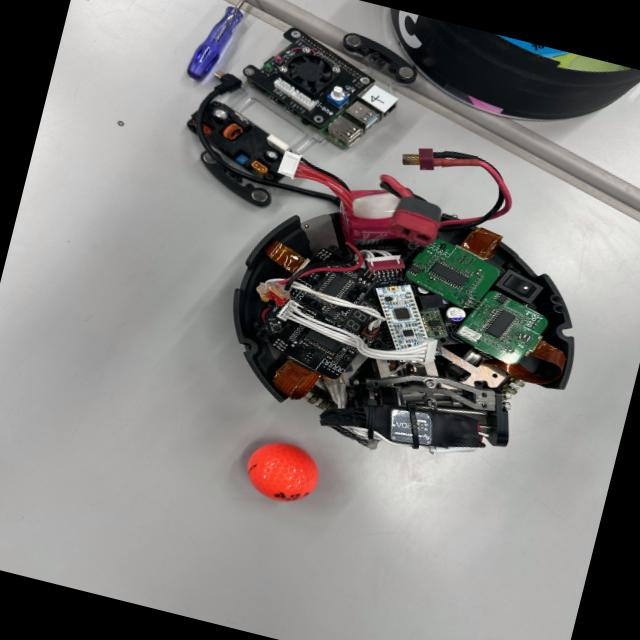ball: (237, 432, 328, 512)
